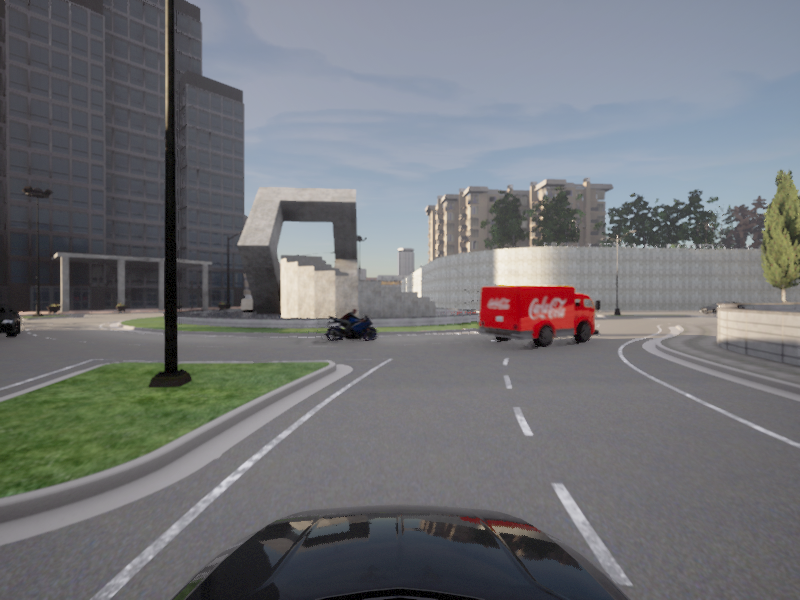vehicle: (475, 285, 607, 351), (326, 308, 377, 344), (0, 303, 22, 343)
